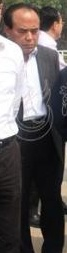boots: (26, 211, 41, 226), (59, 199, 67, 212)
